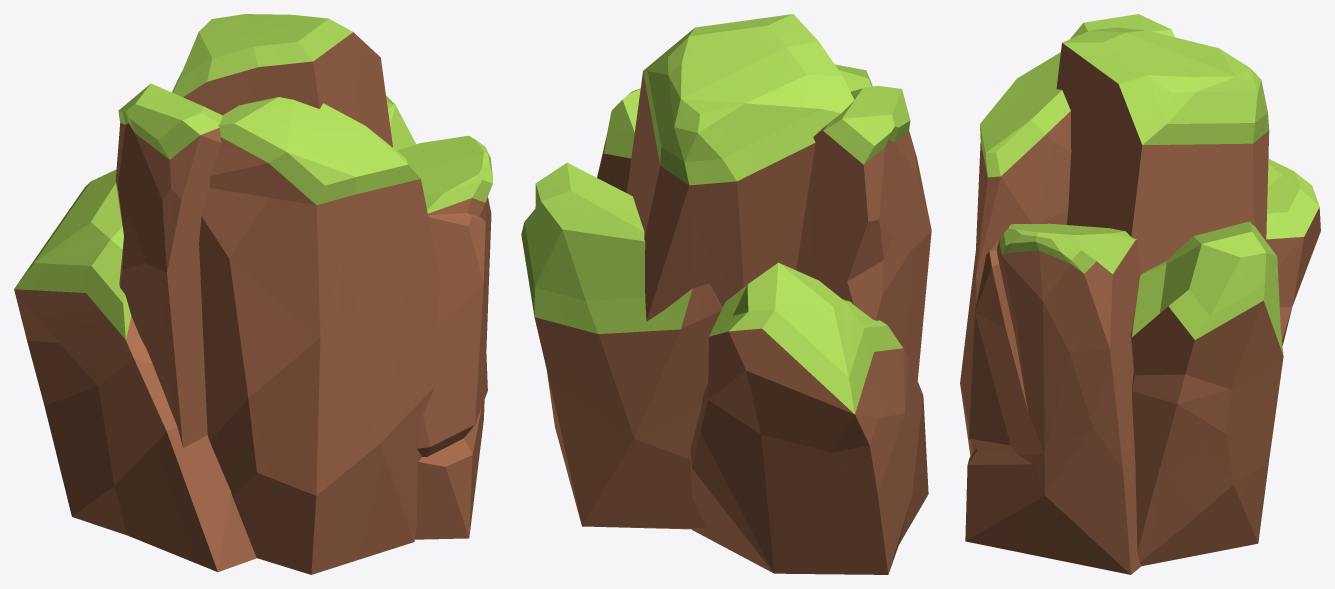
File: dm11.rock.lg.v1.01.glb
3 views of the same model, side by side, from view 1: azimuth 30°, elevation 25°; view 2: azimuth 150°, elevation 25°; view 3: azimuth 270°, elevation 25° (orthographic). The views are drawn at different scales.
Visible parts, largest first — view 1: PP_Rock_Pile_Forest_Moss_05.001_PP_Standard_Material_0; view 2: PP_Rock_Pile_Forest_Moss_05.001_PP_Standard_Material_0; view 3: PP_Rock_Pile_Forest_Moss_05.001_PP_Standard_Material_0.
Part boxes in pixels (box(x1,y1,x2,y2)): PP_Rock_Pile_Forest_Moss_05.001_PP_Standard_Material_0: box(14, 14, 492, 574); PP_Rock_Pile_Forest_Moss_05.001_PP_Standard_Material_0: box(521, 14, 931, 574); PP_Rock_Pile_Forest_Moss_05.001_PP_Standard_Material_0: box(960, 14, 1320, 574).
Size of the model in its own units: 4.61 by 5.57 by 4.02.
Materials: 1 (1 with a texture image).
